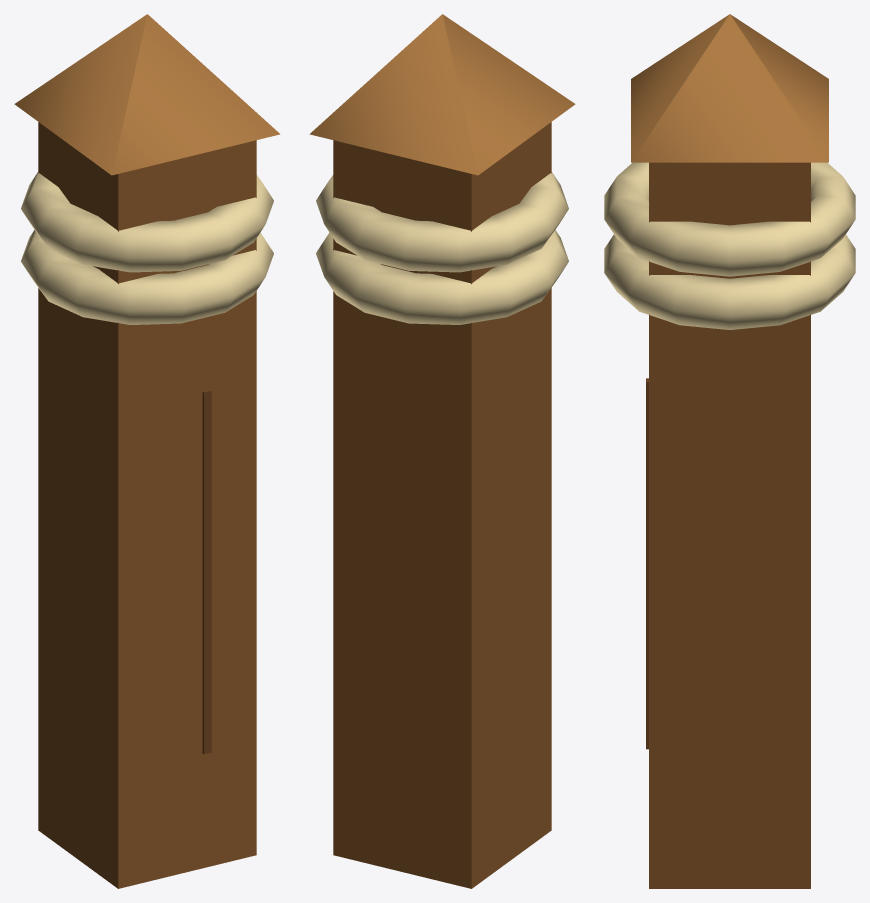
Rendered from bridge_post.glb.
3 renders of one model, left to right at view 1: azimuth 30°, elevation 25°; view 2: azimuth 150°, elevation 25°; view 3: azimuth 270°, elevation 25°, orthographic.
Visible parts, largest first — view 1: bridge_post; view 2: bridge_post; view 3: bridge_post.
Part boxes in pixels (box(x1,y1,x2,y2)): bridge_post: box(14, 14, 280, 888); bridge_post: box(309, 14, 575, 888); bridge_post: box(604, 14, 855, 888).
Size of the model in its own units: 0.35 by 1.26 by 0.3412.
